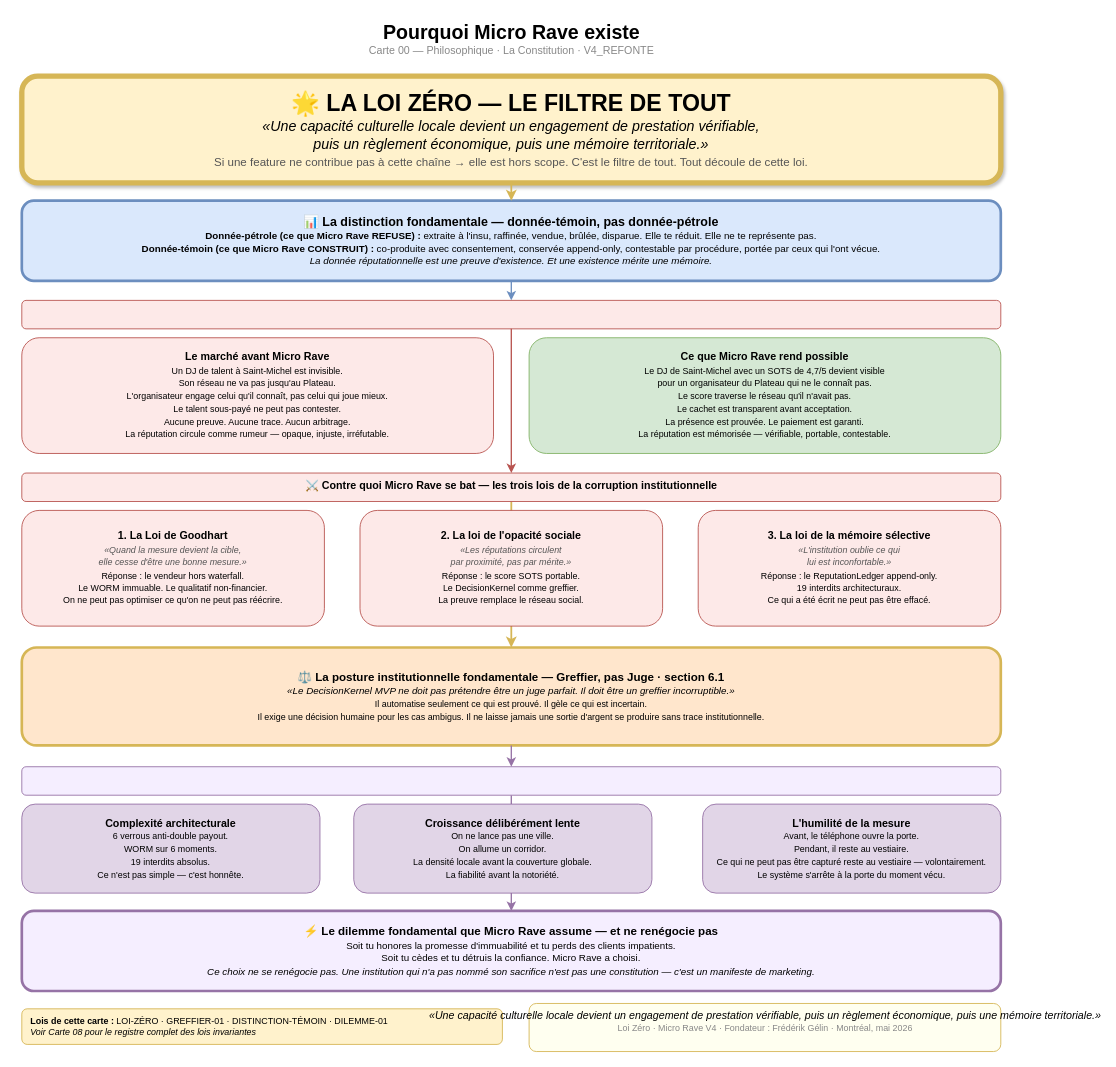
The diagram is 1116 pixels wide and 1067 high, and some of its shapes have lost their labels. The centre of each missing label's shape, as x and y in pixels:
"❓ Pourquoi cette institution existe — le problème qu'elle résout" goes at [511,314].
"💸 Le coût que Micro Rave accepte de payer pour tenir ses promesses" goes at [511,780].
